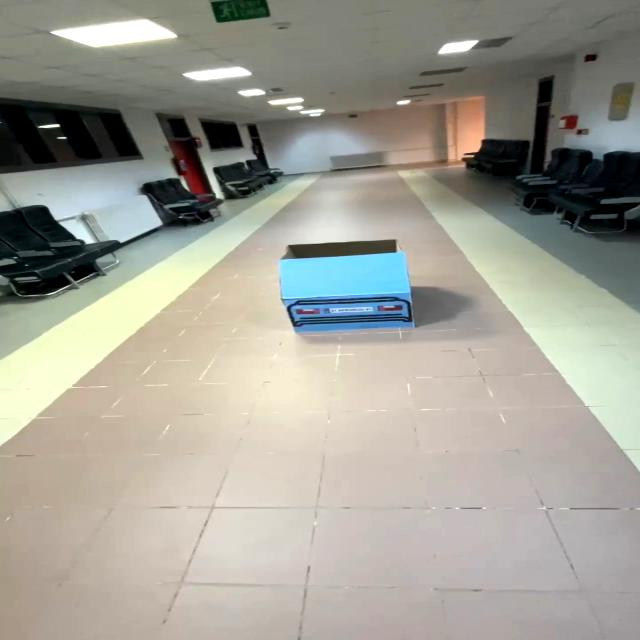blue_car: (257, 225, 434, 355)
